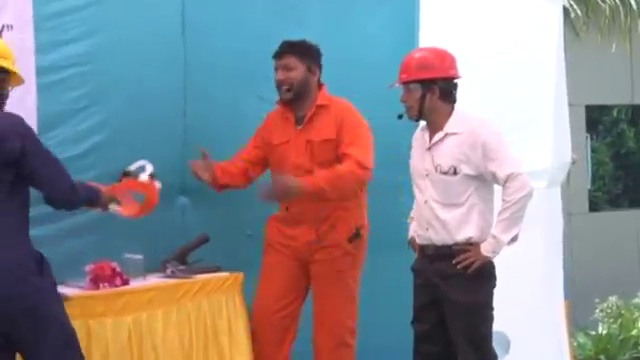helmet: (387, 46, 463, 87), (1, 37, 25, 86)
helmet_off: (274, 38, 323, 105)
helmet_on: (387, 44, 464, 130), (1, 37, 27, 124)
person: (195, 38, 374, 359), (387, 44, 534, 360), (1, 36, 110, 360)
